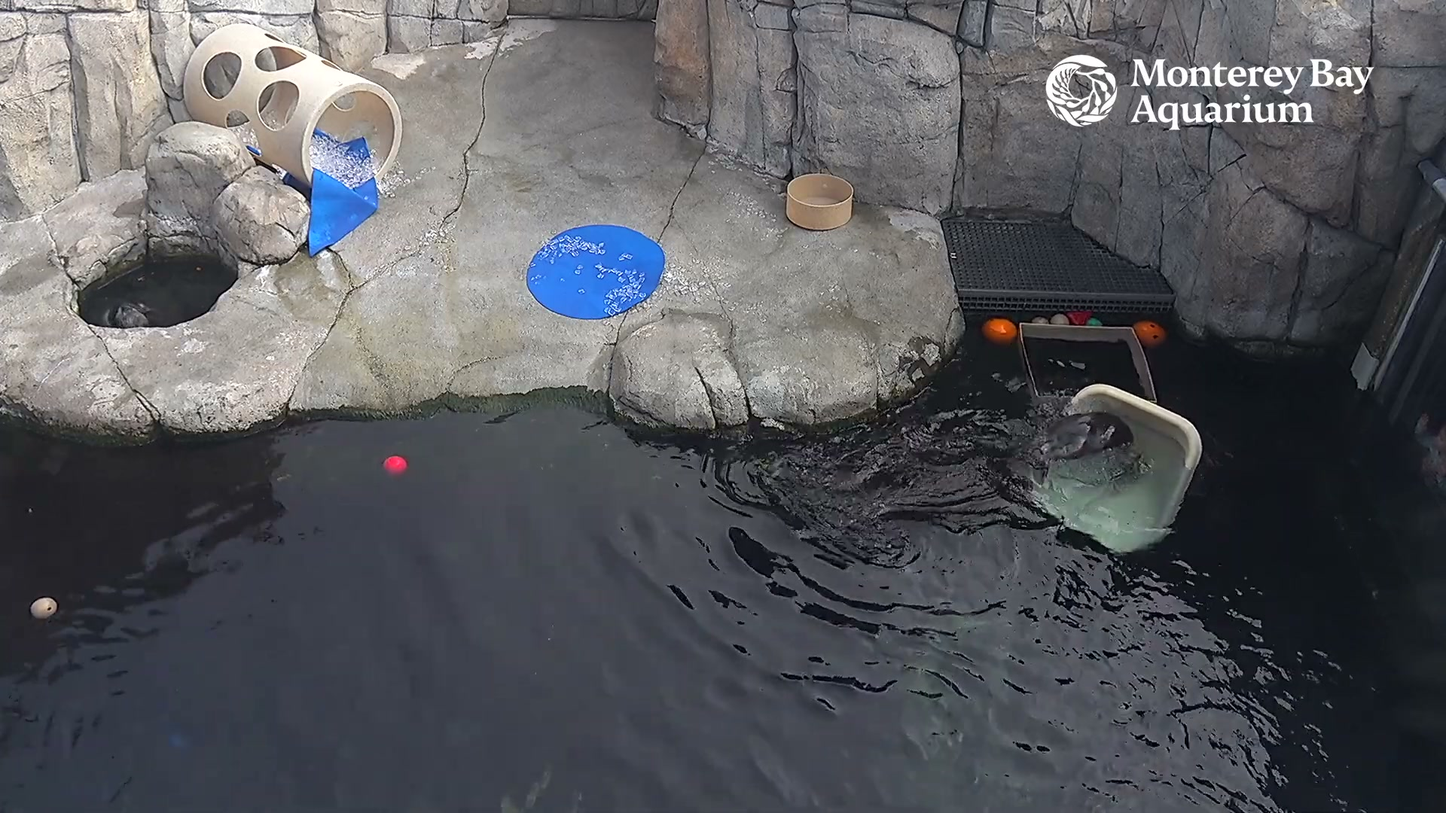Southern Sea Otter: (1019, 411, 1155, 485), (84, 286, 161, 338)
